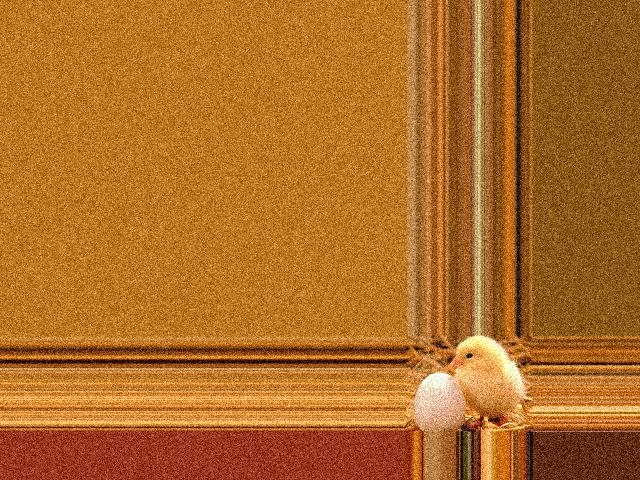egg: (414, 372, 466, 432)
